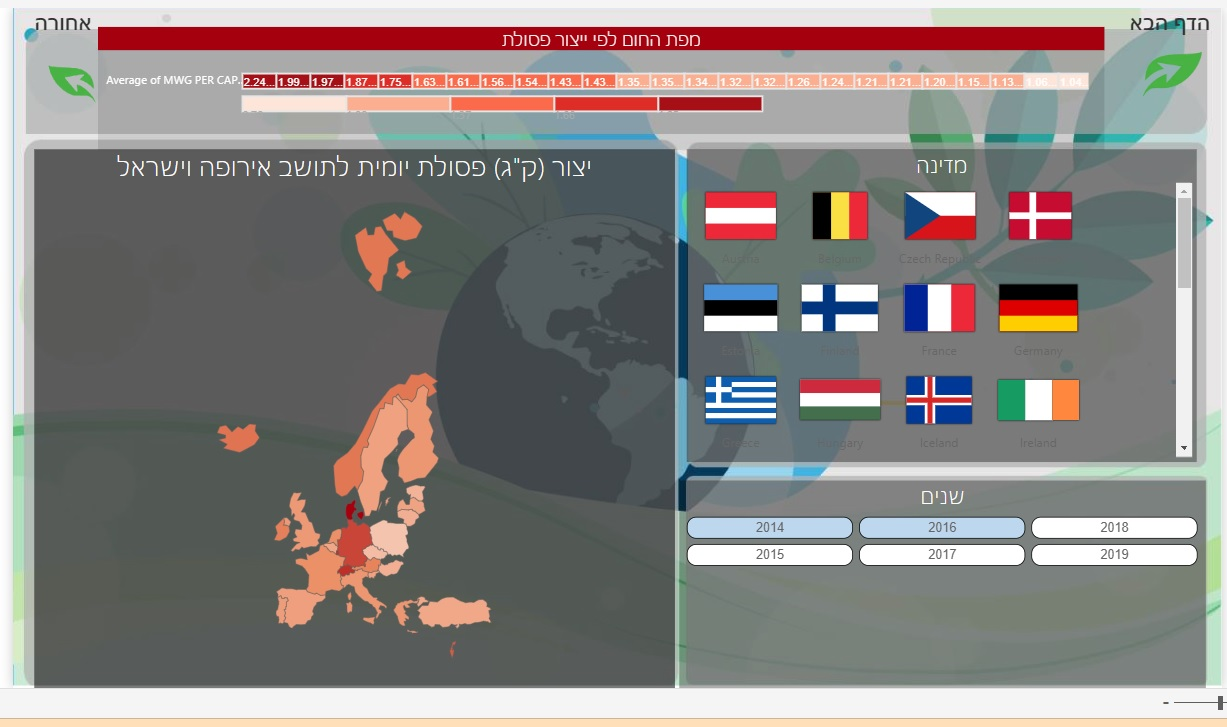

What the dashboard file says about the page in this screenshot:
{"tool":"powerbi","page":{"name":"השוואה בין אירופה וישראל בייצור פסולת לאדם","canvas":[1280,720],"ordinal":3},"visuals":[{"type":"shapeMap","title":"יצור (ק\"ג) פסולת יומית לתושב אירופה וישראל","fields":{"Category":["אירופה וישראל.Country"],"Value":["Sum(EUROPE ISRAEL.MWG PER CAPITA (DAY))"]},"box":[22.8,150.1,678.2,571],"z":0},{"type":"enlightenWorldFlagsE887F52F76244B1C927F80CF9724AEF6","title":"מדינה","fields":{"code":["EUROPE ISRAEL.Country"]},"box":[713,150.1,540.1,331.1],"z":1000},{"type":"ChicletSlicer1448559807354","title":"שנים","fields":{"Category":["EUROPE ISRAEL.YEAR"]},"box":[705,499.9,557.6,219.8],"z":2000},{"type":"TableHeatMap1443716069308","title":"מפת החום לפי ייצור פסולת","fields":{"Category":["EUROPE ISRAEL.Country"],"Y":["Avg(EUROPE ISRAEL.MWG PER CAPITA (DAY))"]},"box":[89.8,20.1,1065.5,130],"z":3000},{"type":"image","title":"אחורה","box":[0,0,105.9,113.9],"z":4000},{"type":"image","title":"הדף הבא","box":[1170.1,0,109.9,104.5],"z":5000}]}

Visuals, with their boxes on the page's 1280x720 design canvas (x1, y1, x2, y2). These are canvas units, not pixel positions in the 1227x727 screenshot, which may show the page scaled, cropped or inside an application window:
"יצור (ק"ג) פסולת יומית לתושב אירופה וישראל" shapeMap: 23:150:701:721
"מדינה" enlightenWorldFlagsE887F52F76244B1C927F80CF9724AEF6: 713:150:1253:481
"שנים" ChicletSlicer1448559807354: 705:500:1263:720
"מפת החום לפי ייצור פסולת" TableHeatMap1443716069308: 90:20:1155:150
"אחורה" image: 0:0:106:114
"הדף הבא" image: 1170:0:1280:104
